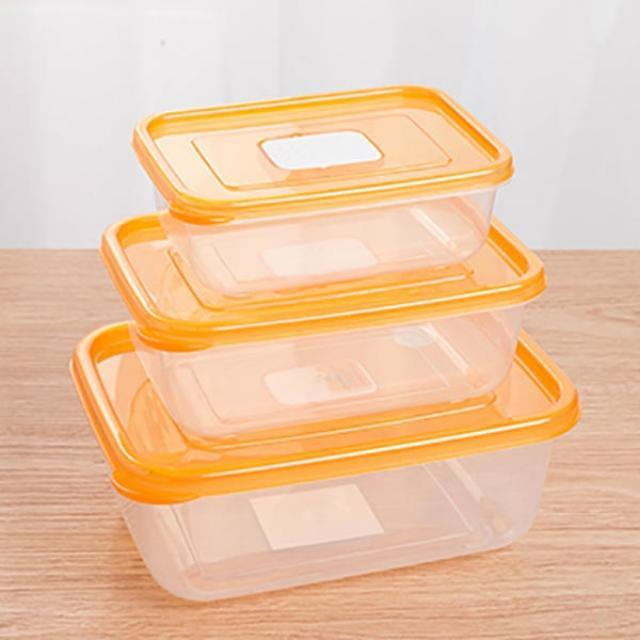plastic: (70, 87, 579, 600)
